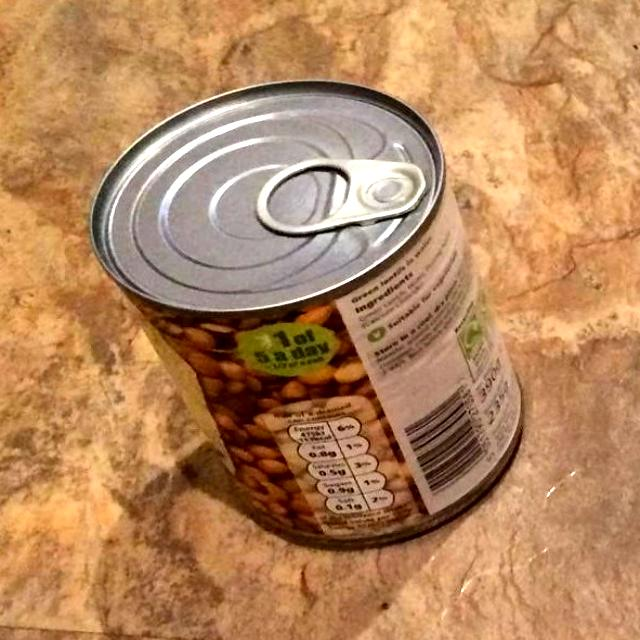Metal: (78, 68, 537, 558)
